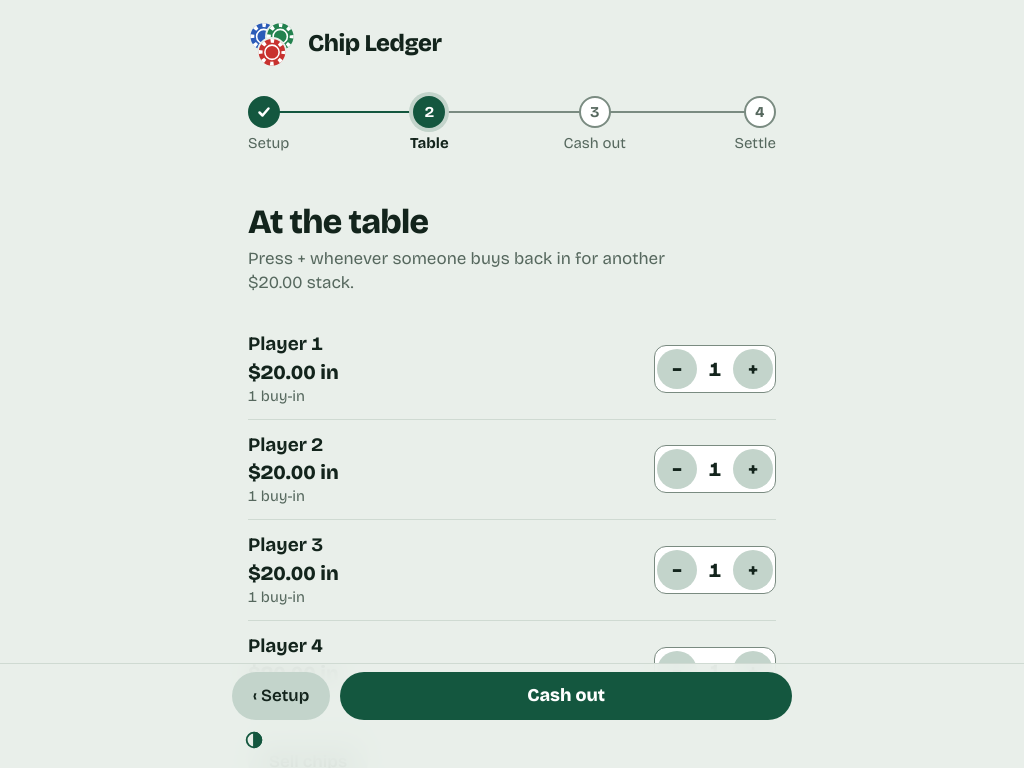
it: ChipLedgerApp: SPEC-0002 phase 3 consistency › AC-0002-22: bottom-bar back buttons show ‹ and are named Back to <step>
This screenshot has width=1024, height=768.
Check: the button with aria-label "Back to Setup" reads "‹ Setup", box 232,672 -> 330,720
Check: the button "Cash out" is shown, box 340,672 -> 792,720
Click the button "3 Cash out".
click(595, 125)  # box 563,92 -> 627,159
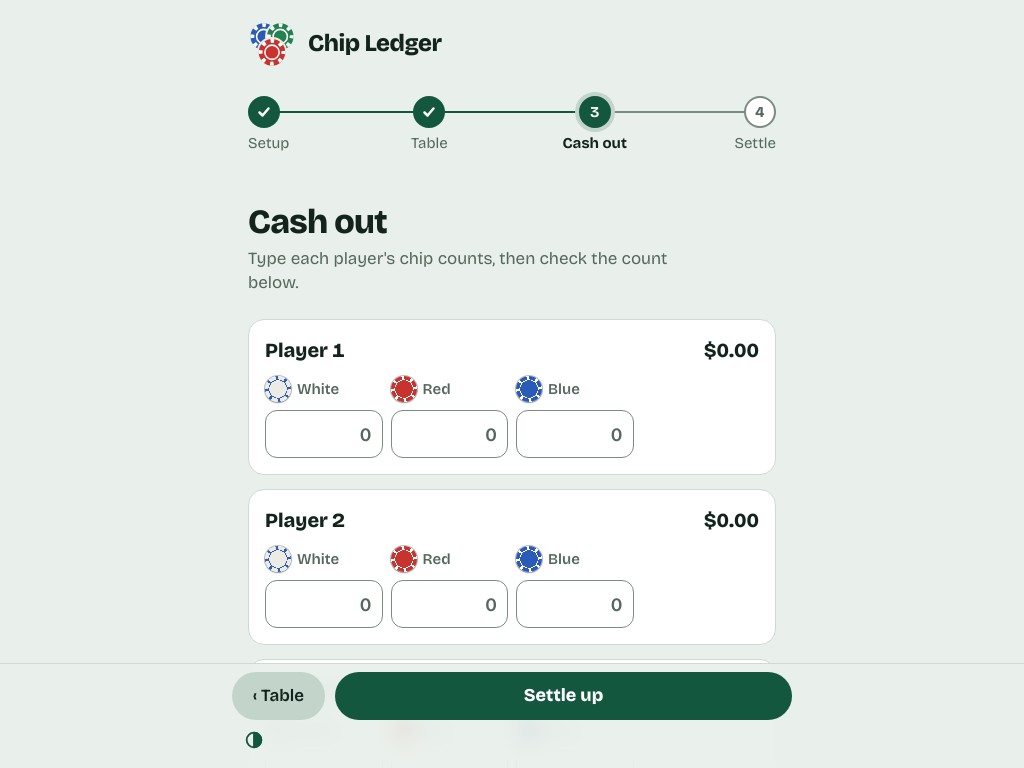
Check: the button with aria-label "Back to Table" reads "‹ Table", box 232,672 -> 325,720
Check: the button "Settle up" is shown, box 335,672 -> 792,720
